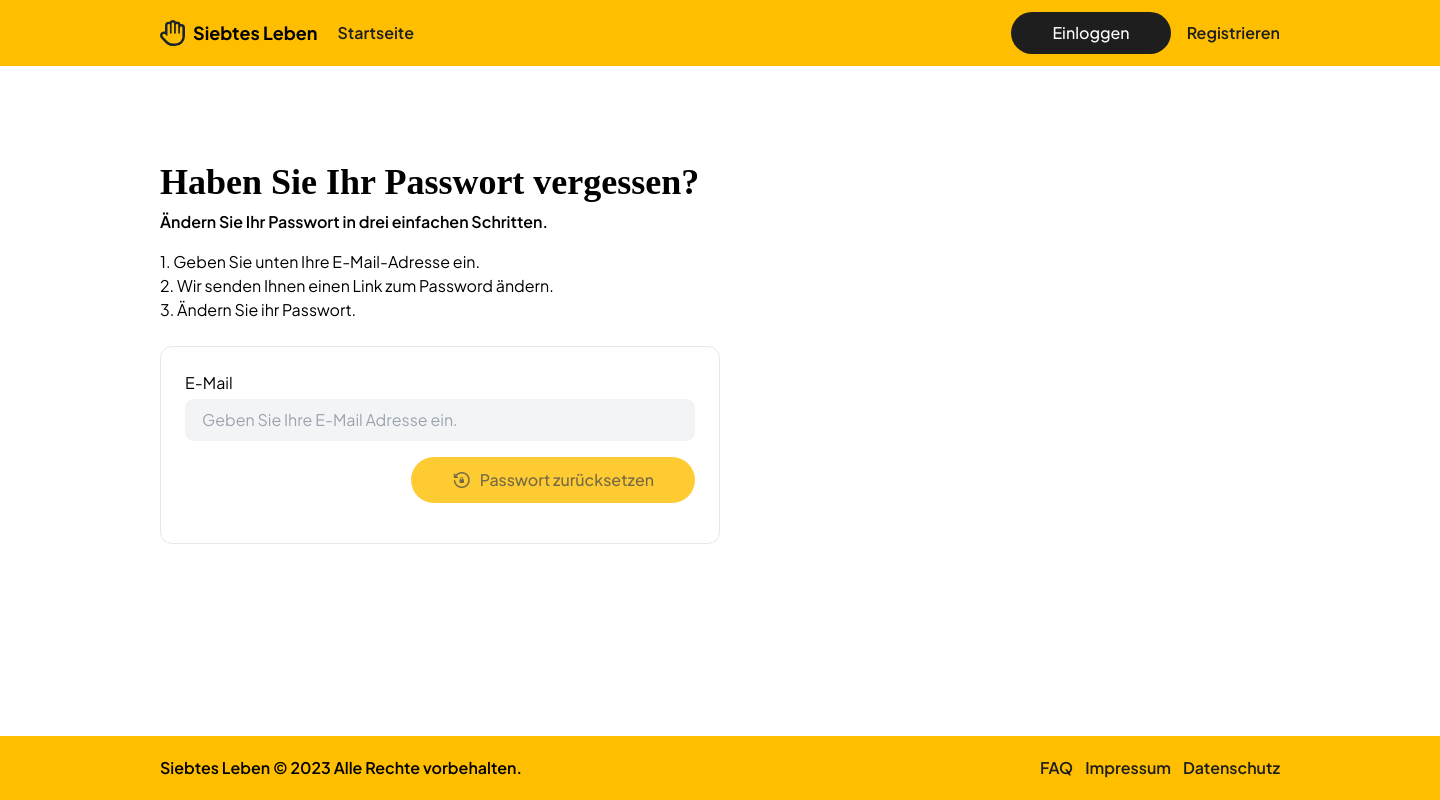
Forgot password › Password Reset Page › should sent password reset email successfully
Type "test@test.de" into the field labelled "E-Mail".
click(440, 420); type("test@test.de")  # box left=185, top=399, right=695, bottom=441
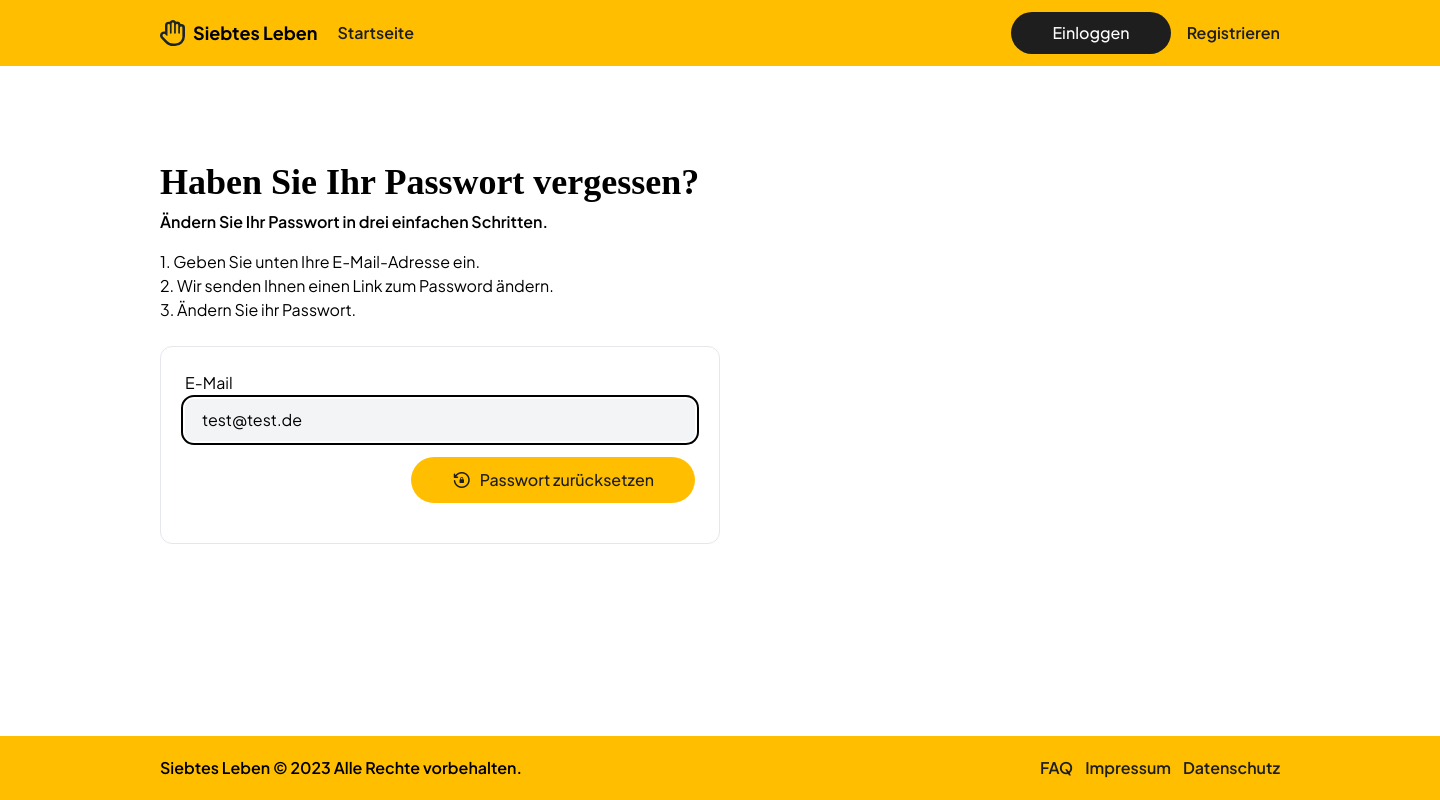
Click the button "Passwort zurücksetzen".
click(553, 480)  # box left=411, top=457, right=695, bottom=503
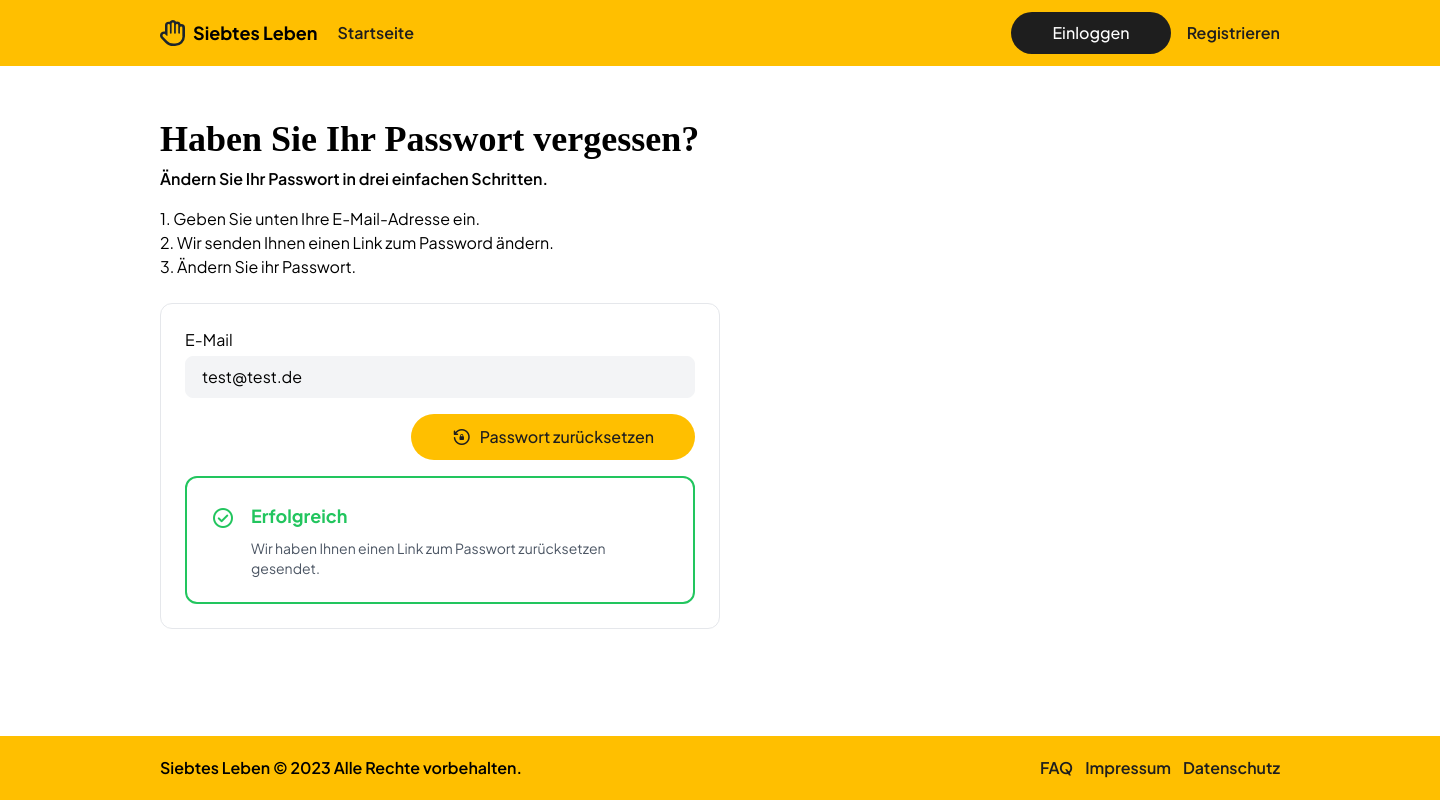
expect the heading "Erfolgreich" is shown: met, box left=251, top=504, right=347, bottom=527
expect the text "Wir haben Ihnen einen Link zum Passwort zurücksetzen gesendet." is shown: met, box left=251, top=539, right=606, bottom=577
